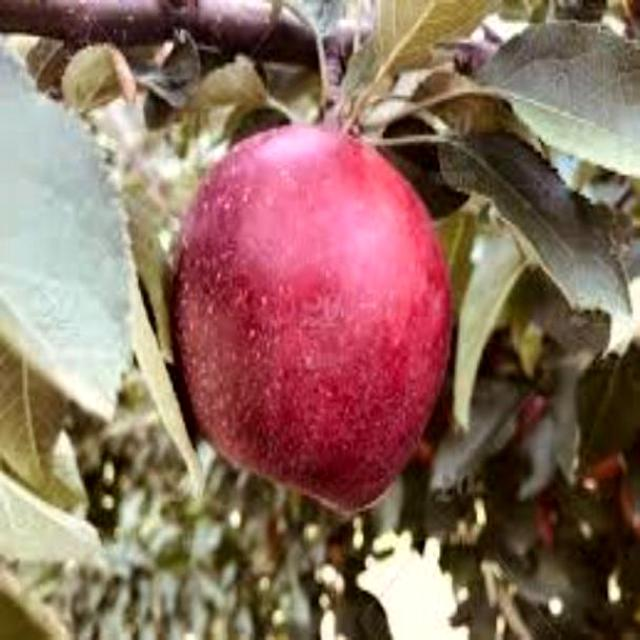HEALTHY: (160, 107, 470, 527)
